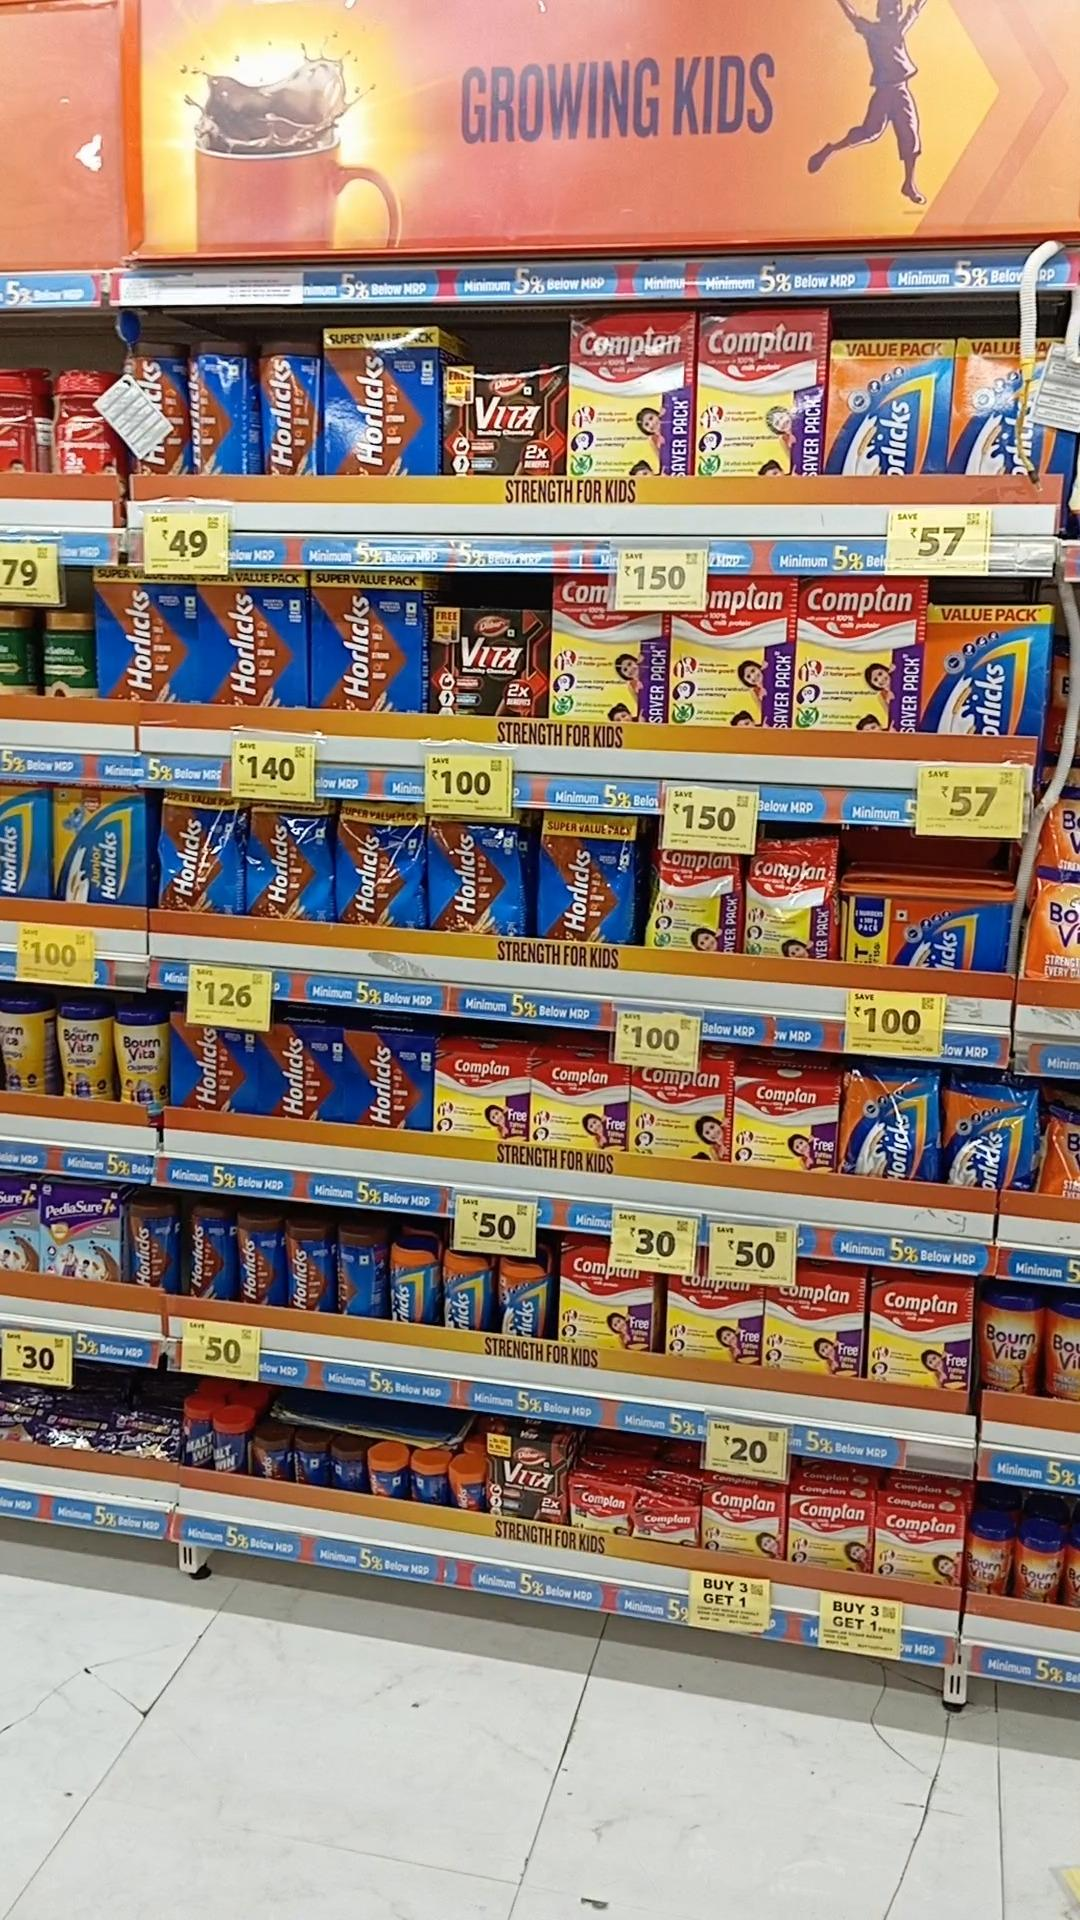BOURN_VITA_200_G_JAR: (1018, 1527, 1064, 1604), (967, 1518, 1010, 1590)
BOURN_VITA_500_G_JAR: (980, 1294, 1036, 1395), (1039, 1300, 1080, 1407)
BOURN_VITA_CHAMPS_500_G_JAR: (59, 998, 111, 1098), (115, 1000, 162, 1108), (0, 994, 44, 1091)
COMPLAN_CHOCOLATE_1_KG_PACK: (700, 313, 823, 471), (576, 314, 691, 473), (671, 582, 789, 720), (793, 580, 902, 723), (555, 579, 658, 721)
COMPLAN_CHOCOLATE_200_GMS_PACK: (702, 1482, 778, 1559)
COMPLAN_CHOCOLATE_500_GMS_PACK: (869, 1279, 967, 1386), (556, 1244, 647, 1354), (530, 1065, 624, 1153), (438, 1048, 527, 1134)
COMPLAN_CREAMY_CLASSIC_500_G_PACK: (737, 1077, 837, 1167)
COMPLAN_KESAR_BADAM_200_GMS_PACK: (787, 1494, 870, 1571)
COMPLAN_RC_POUCH_700_GMS_12: (750, 848, 831, 959), (653, 856, 738, 953)
HORLICK_CHOCOLATE_1_KG_JAR: (125, 342, 190, 483), (260, 335, 307, 480), (189, 338, 236, 476)
HORLICK_CHOCOLATE_1_KG_PACK: (311, 571, 418, 717), (327, 327, 433, 468), (202, 572, 301, 707), (98, 570, 193, 702)
HORLICK_CHOCOLATE_500_G_JAR: (131, 1200, 179, 1294), (286, 1224, 331, 1313), (185, 1205, 227, 1300), (237, 1213, 278, 1302)
HORLICK_CHOCOLATE_500_G_PACK: (167, 1022, 258, 1113), (264, 1019, 344, 1120), (351, 1031, 433, 1120)
HORLICK_CHOCOLATE_750_G_POUCH: (533, 819, 630, 943), (423, 808, 516, 926), (245, 798, 322, 918), (150, 796, 232, 909), (339, 800, 414, 922)
HORLICK_CLASSIC_MALT_500_G_JAR: (386, 1238, 438, 1324), (497, 1259, 551, 1333), (443, 1251, 493, 1328)
HORLICK_CLASSIC_MALT_500_G_PACK: (827, 343, 951, 480), (956, 339, 1069, 479), (931, 605, 1044, 727)
HORLICK_CLASSIC_MALT_750_G_POUCH: (848, 1068, 934, 1176), (945, 1087, 1029, 1189)
HORLICK_MALT_1_KG_CONTAINER: (844, 899, 1002, 968)
PEDIASURE_7_PLUS_CHOCOLATE_400_G_PACK: (44, 1184, 116, 1282)
